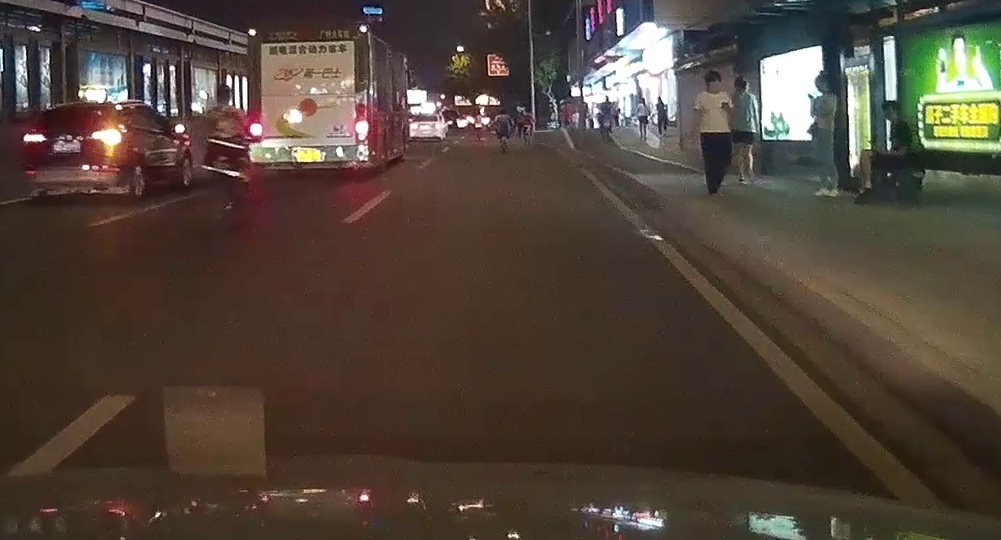L_light: (248, 105, 261, 140), (24, 133, 47, 142)
R_light: (356, 104, 369, 140), (91, 129, 121, 142)
T_light: (295, 34, 312, 40), (69, 108, 85, 112)
night-no: (247, 25, 369, 178)
night-right: (23, 103, 123, 201)
